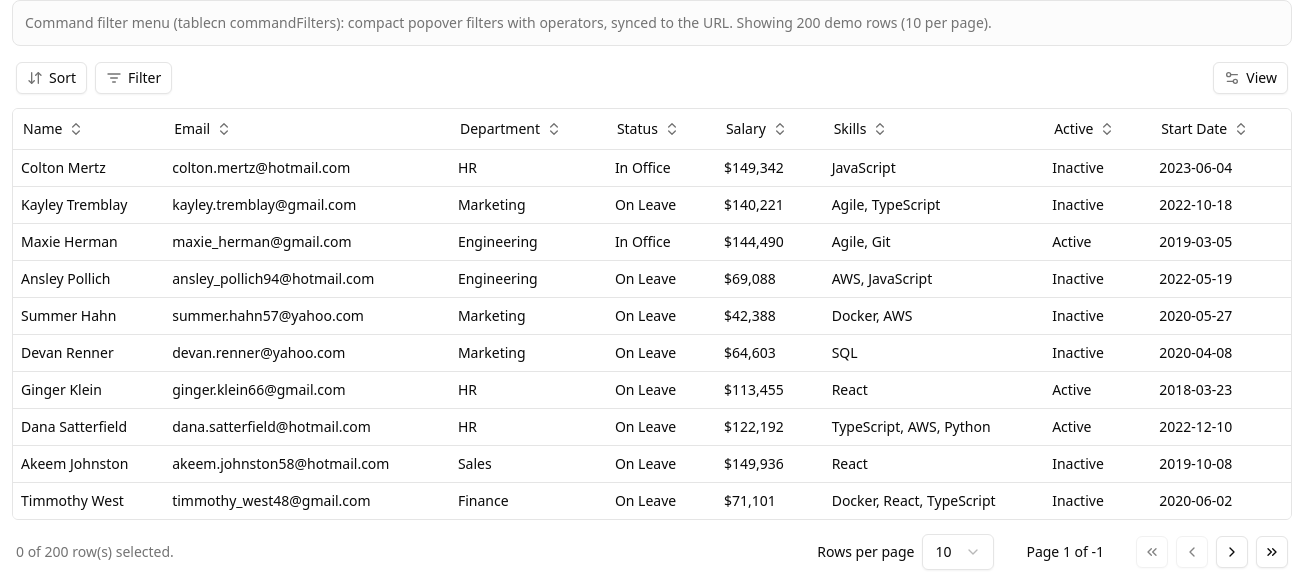
it: data-table-showcase.svelte › should show selected advanced filter values
What coordinates should you click on to do the following:
click the button with aria-label "Open filter command menu"
I would click on:
 (134, 78)
Its box is [95,62,172,94].
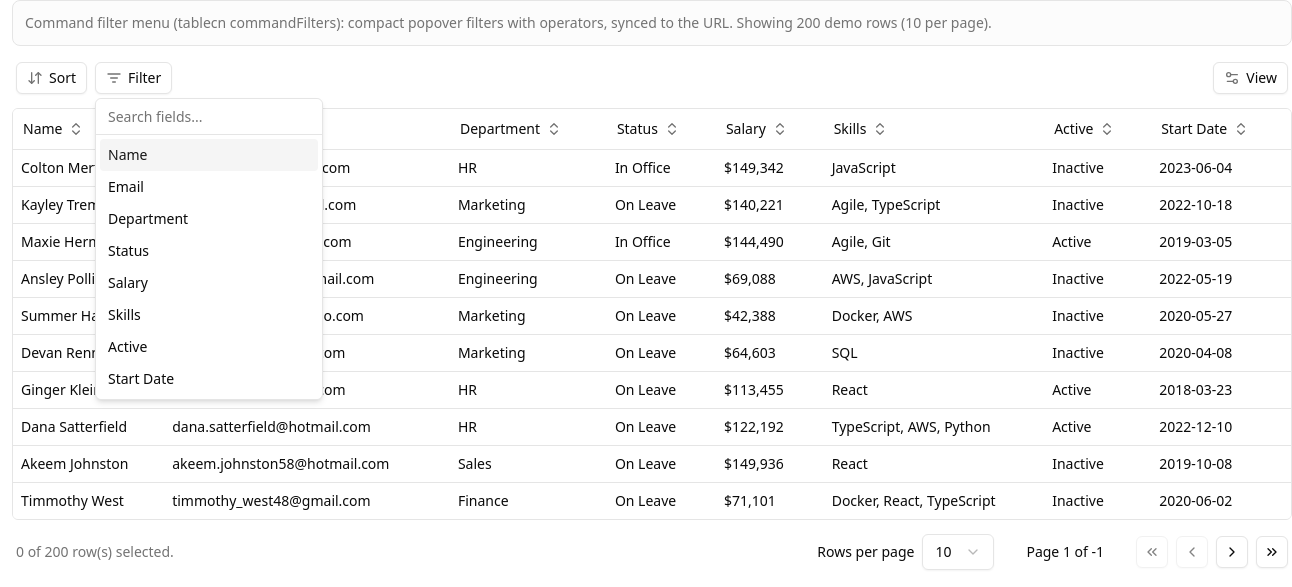
What coordinates should you click on to do the following:
click the option "Department"
I would click on:
 (148, 218)
Its box is [108,209,188,228].
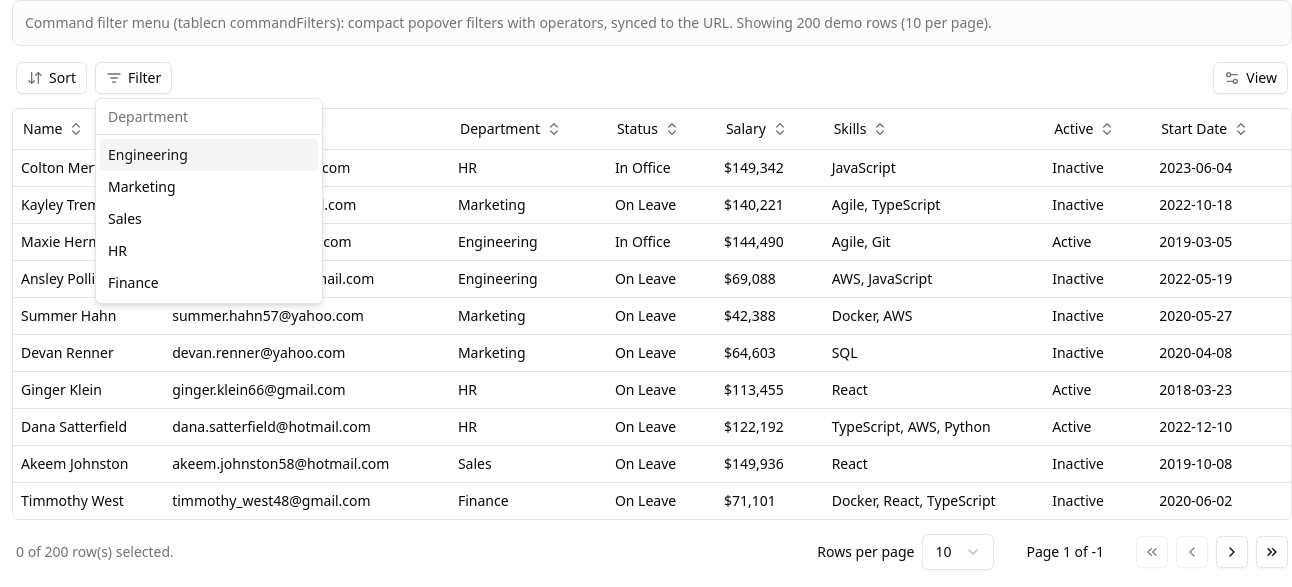
What coordinates should you click on to do the following:
click the option "Engineering"
I would click on:
 (209, 155)
Its box is [100,139,318,171].
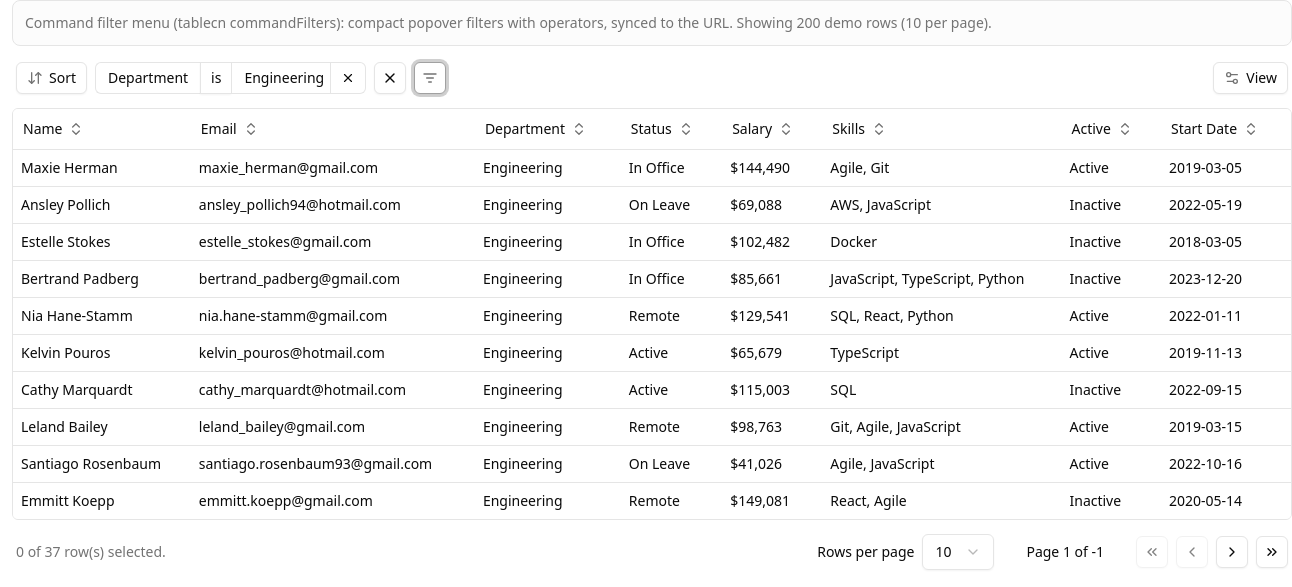
Expected: the text "Engineering" is shown, [244,68,324,88]
Expected: the list item is shown, [95,62,366,94]
